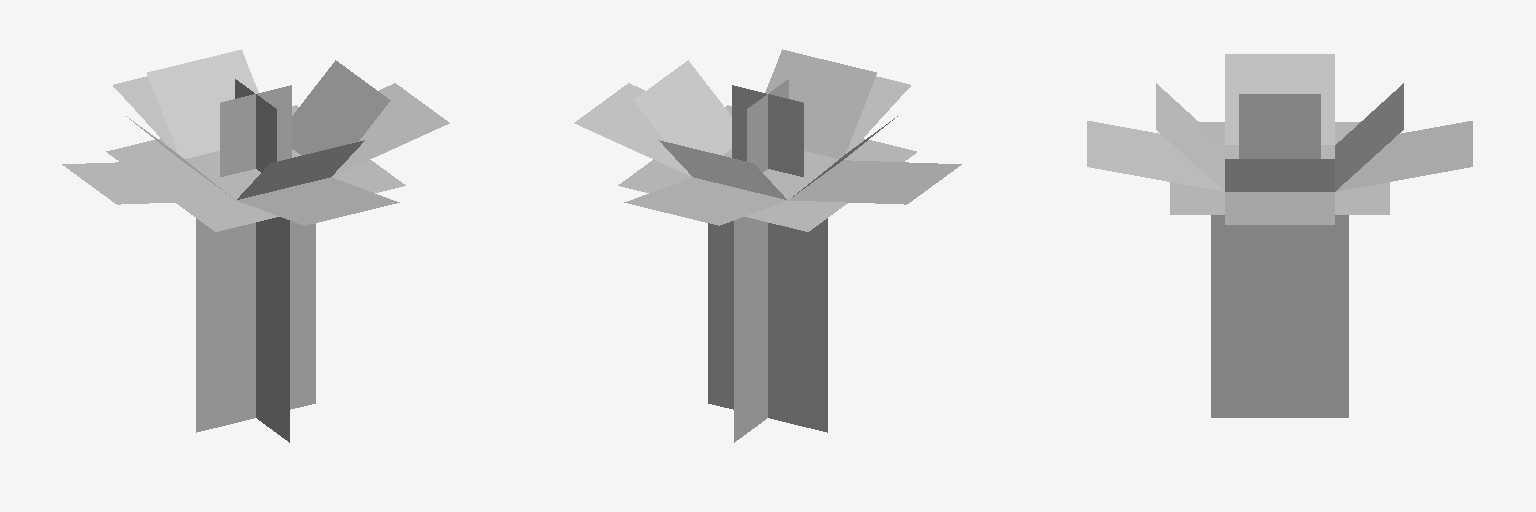
File: lily.obj
3 views of the same model, side by side, from view 1: azimuth 30°, elevation 25°; view 2: azimuth 150°, elevation 25°; view 3: azimuth 270°, elevation 25° (orthographic).
Visible parts, largest first — view 1: Default; view 2: Default; view 3: Default.
Boxes of the visible parts, <box> form: Default: <box>62,49,449,442</box>; Default: <box>574,49,961,442</box>; Default: <box>1087,54,1472,417</box>.
Bounding box in the file's own units: 1.75 × 1.63 × 1.75.